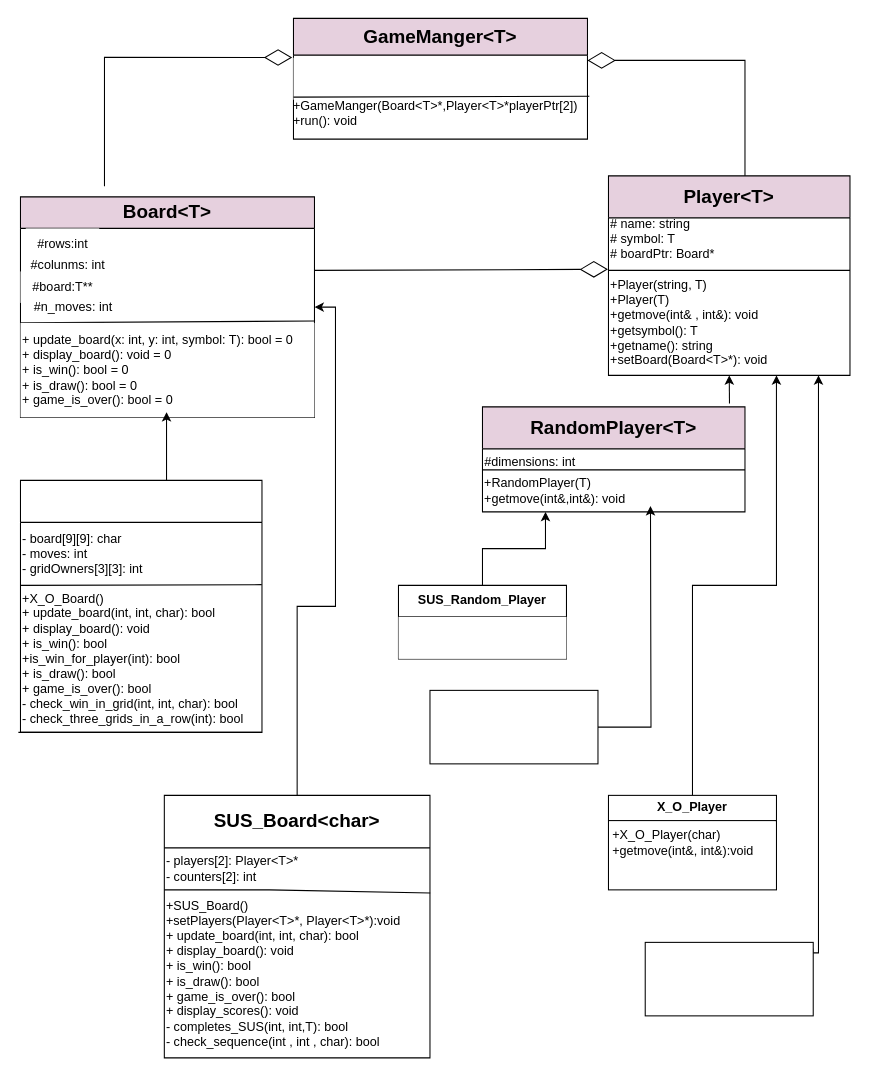
Some shapes in this 869 by 1076 pixel diagram are drawn without their labels. Each missing label, with the box of its shape:
+SUS_Random_Player(T) +getmove(int&, int&): void: (398, 616, 566, 658)
-boardPtr: Board<T>* -players[2]: Player<T>*: (293, 57, 450, 99)
SUS_Player +SUS_Player() +getmove(int&, int&):void: (644, 941, 813, 1016)
X_O_Board<T>: (19, 479, 262, 732)
X_O_Random_Player +X_O_Random_Player +getmove(int&, int&):void: (429, 689, 598, 764)
